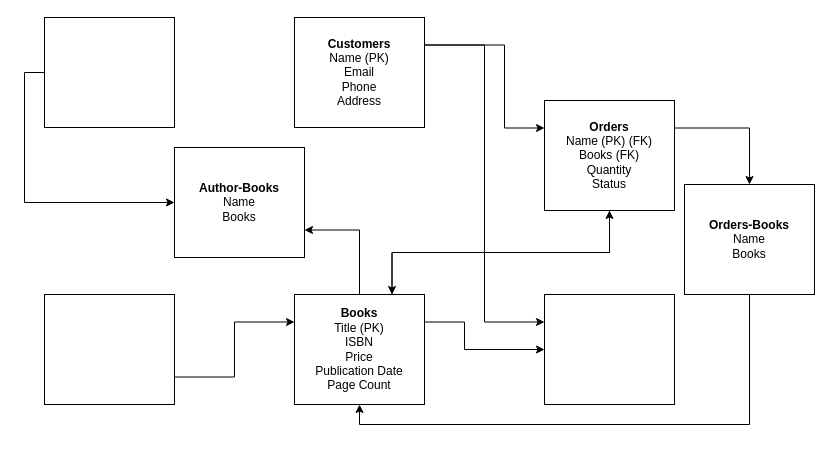
The diagram is 832 pixels wide and 450 high, and some of its shapes have lost their labels. The shapes that lost their labels are listed below. From the top down, each one's box as (x1, y1, x2, y2) in pixels, then its label:
(44, 16, 174, 128): Authors N ame (PK) Bio Books (FK)
(44, 294, 174, 404): Publishers N ame (PK) Contact info Book (FK)
(544, 294, 674, 404): Reviews Name (FK) Book (PK) Rating Optional Text
